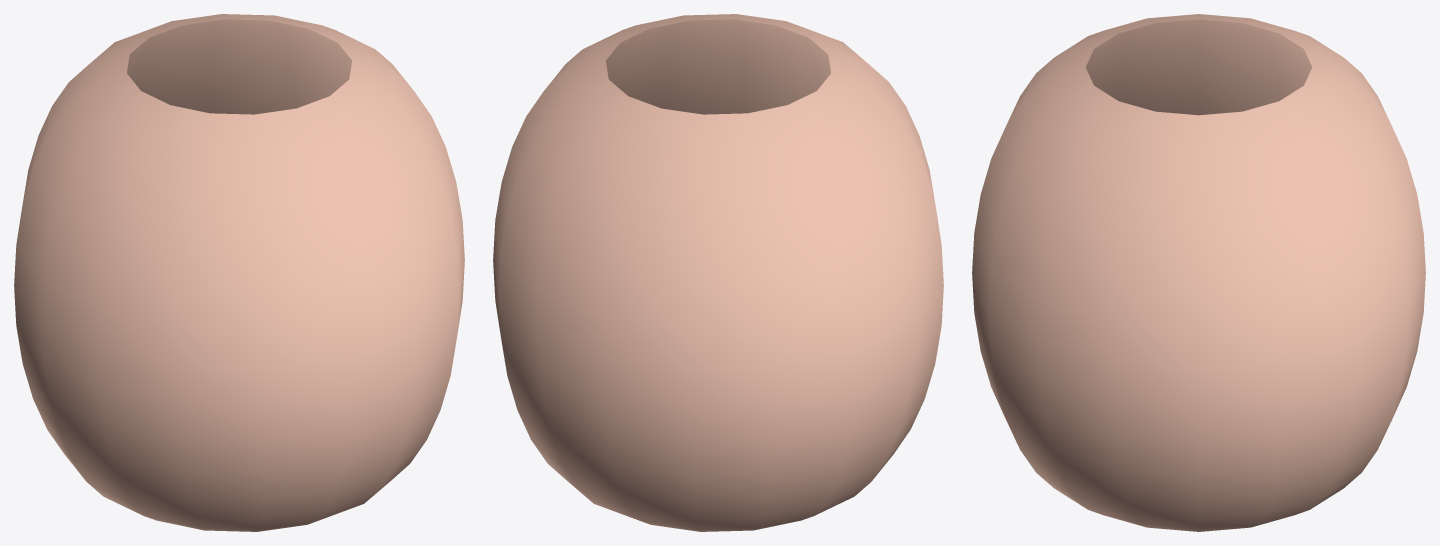
The model's file is rose_gold_drop.glb.
3 views of the same model, side by side, from view 1: azimuth 30°, elevation 25°; view 2: azimuth 150°, elevation 25°; view 3: azimuth 270°, elevation 25° (orthographic).
Size of the model in its own units: 0.4 by 0.4 by 0.4.
